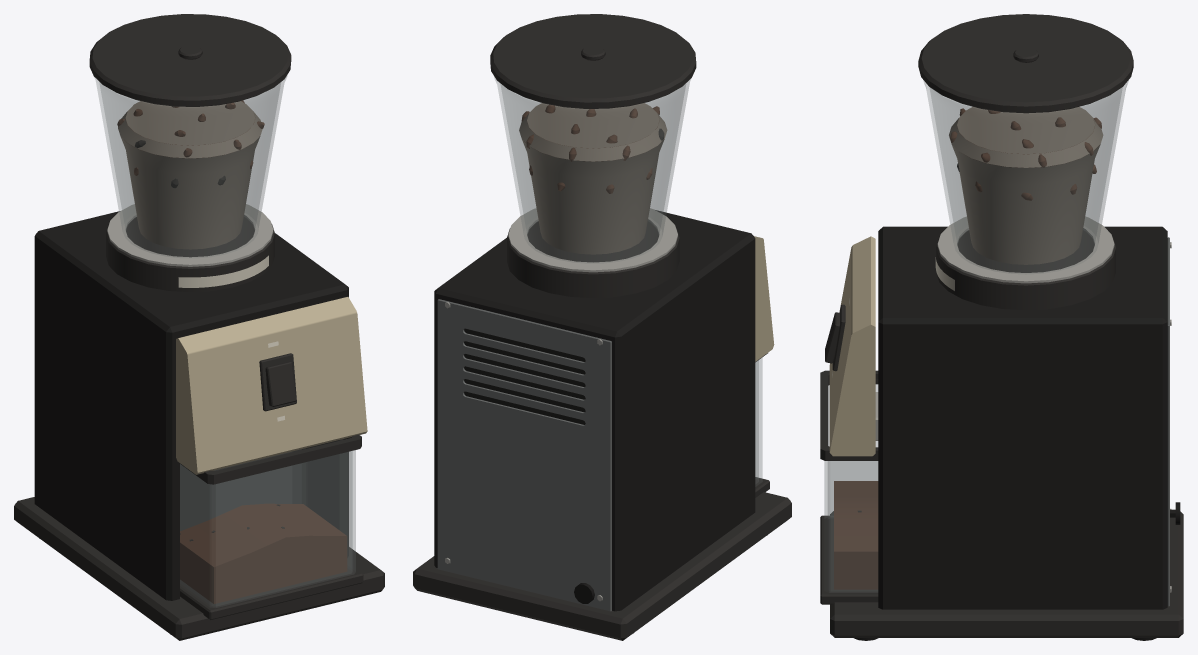
Rendered from coffee-grinder-eeabd03b9f6d.glb.
3 views of the same model, side by side, from view 1: azimuth 30°, elevation 25°; view 2: azimuth 150°, elevation 25°; view 3: azimuth 270°, elevation 25° (orthographic). The views are drawn at different scales.
Parts seen in each view (by area): view 1: enamel-black, glass-clear, plastic-dark, enamel-beige, cover-print, food-coffee, brushed, decal-ink; view 2: enamel-black, metal, plastic-dark, glass-clear, cover-print, rubber, brushed, enamel-beige, food-coffee; view 3: enamel-black, plastic-dark, glass-clear, cover-print, enamel-beige, food-coffee, brushed, metal.
Boxes of the visible parts, left/top/right/bottom form: enamel-black: left=34, top=211, right=348, bottom=600; glass-clear: left=95, top=75, right=355, bottom=607; plastic-dark: left=14, top=14, right=384, bottom=640; enamel-beige: left=176, top=297, right=367, bottom=474; cover-print: left=118, top=101, right=262, bottom=249; food-coffee: left=117, top=100, right=347, bottom=603; brushed: left=107, top=204, right=273, bottom=266; decal-ink: left=178, top=255, right=284, bottom=421; enamel-black: left=434, top=210, right=755, bottom=611; metal: left=437, top=299, right=611, bottom=611; plastic-dark: left=413, top=14, right=791, bottom=640; glass-clear: left=494, top=77, right=762, bottom=485; cover-print: left=519, top=103, right=667, bottom=254; rubber: left=464, top=328, right=585, bottom=424; brushed: left=445, top=208, right=677, bottom=600; enamel-beige: left=754, top=236, right=774, bottom=361; food-coffee: left=521, top=104, right=659, bottom=193; enamel-black: left=878, top=226, right=1167, bottom=609; plastic-dark: left=820, top=14, right=1183, bottom=637; glass-clear: left=824, top=80, right=1128, bottom=592; cover-print: left=949, top=107, right=1103, bottom=264; enamel-beige: left=829, top=236, right=875, bottom=456; food-coffee: left=834, top=108, right=1101, bottom=589; brushed: left=875, top=216, right=1171, bottom=592; metal: left=1167, top=237, right=1169, bottom=606.
Bounding box in the file's own units: 0.16 × 0.37 × 0.226.
